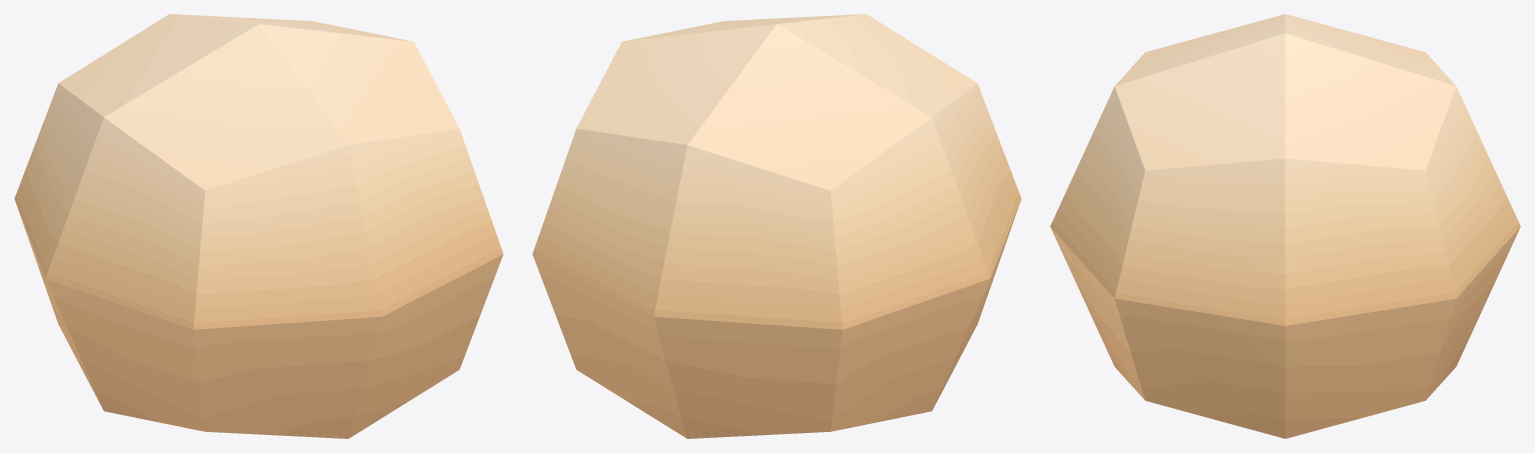
The model's file is Puffball_Fresh.glb.
The picture shows the model from 3 angles, left to right: view 1: azimuth 30°, elevation 25°; view 2: azimuth 150°, elevation 25°; view 3: azimuth 270°, elevation 25°; orthographic projection. The views are drawn at different scales.
Parts seen in each view (by area): view 1: Puff_fresh; view 2: Puff_fresh; view 3: Puff_fresh.
Boxes of the visible parts, box(x1,y1,x2,y2) form: Puff_fresh: box(14, 14, 503, 438); Puff_fresh: box(532, 14, 1021, 438); Puff_fresh: box(1050, 14, 1520, 438).
Size of the model in its own units: 2.77 by 2.51 by 2.77.
Materials: 1 (1 with a texture image).
